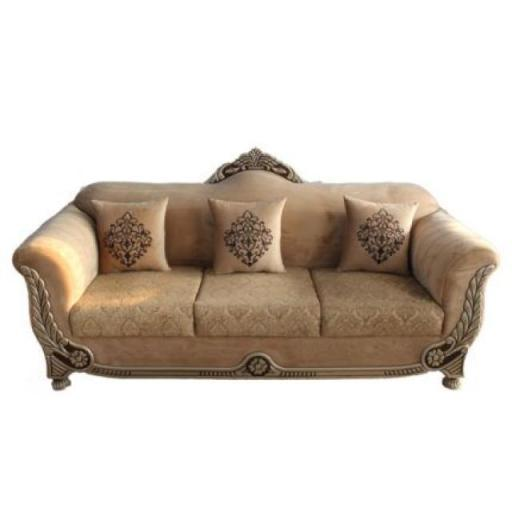sofa: (0, 131, 512, 442)
